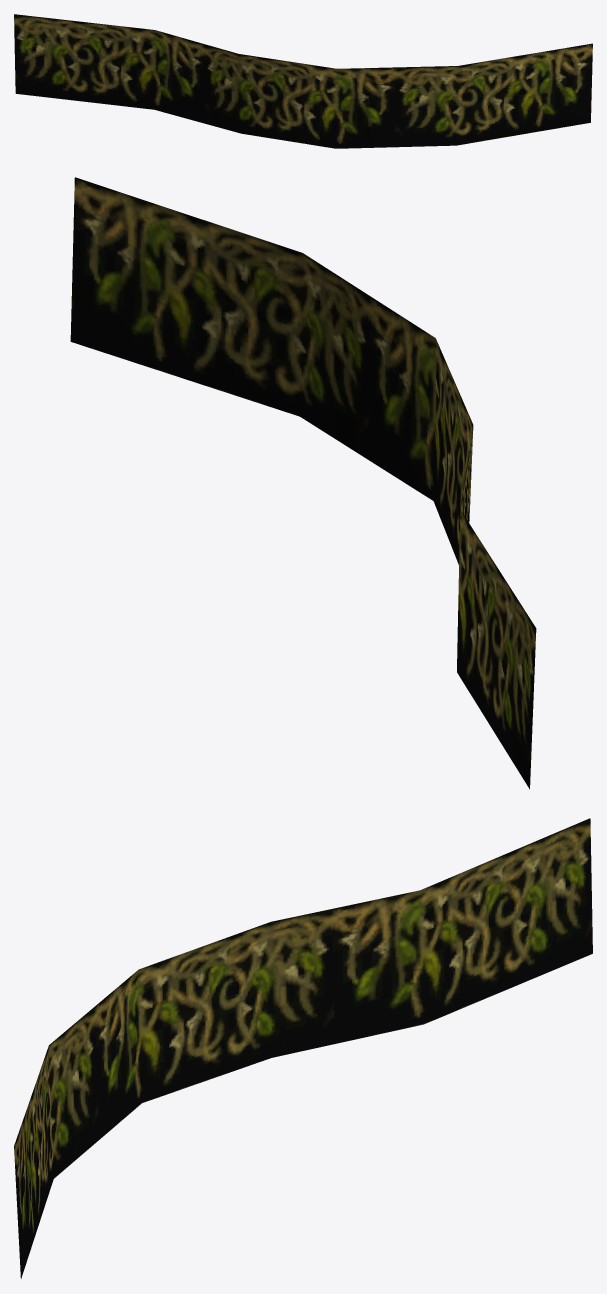
Rendered from OVERHILL_A_01_LINE121.fbx.
The picture shows the model from 3 angles, top to bottom: view 1: azimuth 30°, elevation 25°; view 2: azimuth 150°, elevation 25°; view 3: azimuth 270°, elevation 25°; orthographic projection. The views are drawn at different scales.
Parts seen in each view (by area): view 1: OVERHILL_A_01_LINE121; view 2: OVERHILL_A_01_LINE121; view 3: OVERHILL_A_01_LINE121.
Part boxes in pixels (bbox=[...]): OVERHILL_A_01_LINE121: bbox=[14, 14, 592, 148]; OVERHILL_A_01_LINE121: bbox=[70, 177, 536, 789]; OVERHILL_A_01_LINE121: bbox=[14, 818, 592, 1278].
Bounding box in the file's own units: 35666 × 6857 × 26685.
1 material, 1 textured.
